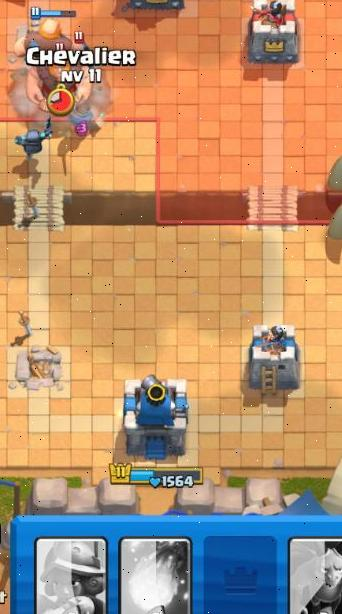enemy_giant: (24, 62, 94, 114)
player_giant: (14, 4, 77, 48)
player_mini_pekka: (10, 115, 58, 160)
